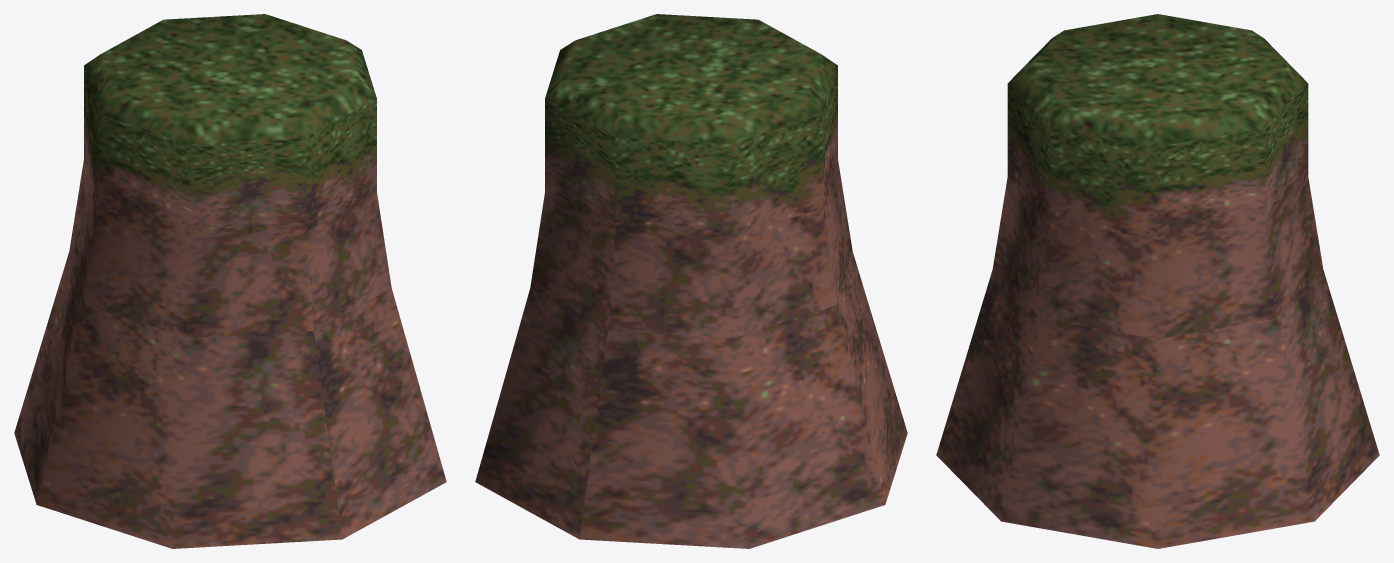
Rendered from cliff1.fbx.
3 views of the same model, side by side, from view 1: azimuth 30°, elevation 25°; view 2: azimuth 150°, elevation 25°; view 3: azimuth 270°, elevation 25° (orthographic).
Visible parts, largest first — view 1: cliff1; view 2: cliff1; view 3: cliff1.
Part boxes in pixels (x1=…): cliff1: x1=14, y1=14, x2=446, y2=548; cliff1: x1=475, y1=14, x2=907, y2=548; cliff1: x1=936, y1=14, x2=1379, y2=548.
Size of the model in its own units: 404 by 387 by 404.
1 material, 1 textured.
